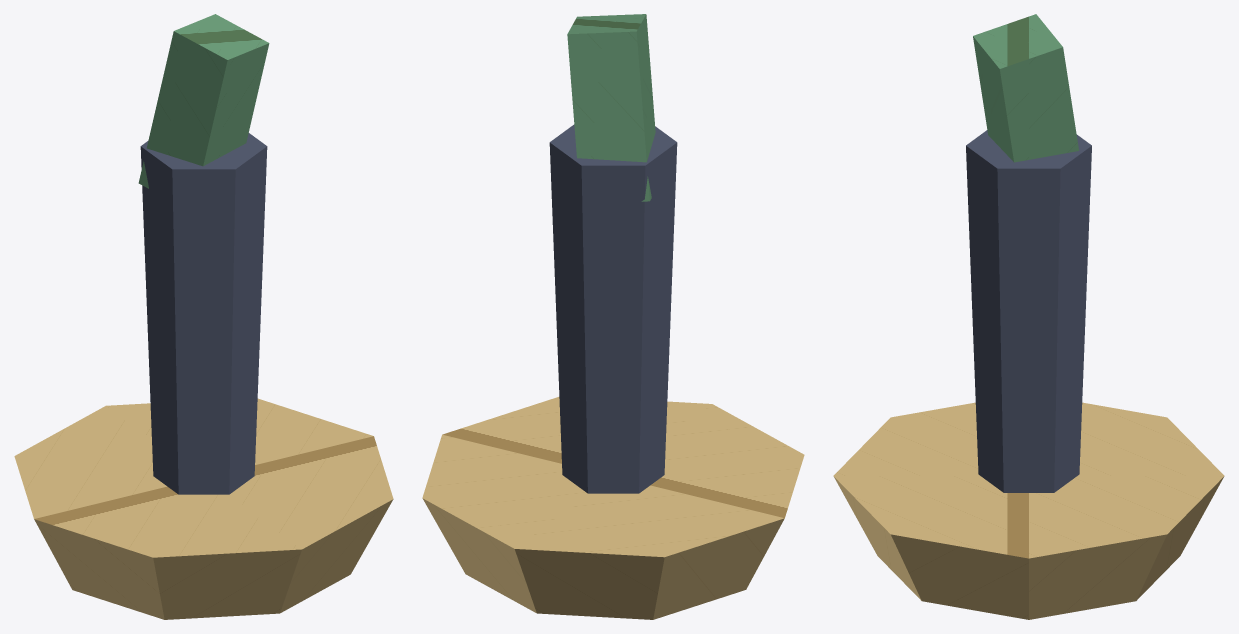
File: prp_beacon_market_a.glb
The picture shows the model from 3 angles, left to right: view 1: azimuth 30°, elevation 25°; view 2: azimuth 150°, elevation 25°; view 3: azimuth 270°, elevation 25°; orthographic projection.
Parts seen in each view (by area): view 1: lod0__beacon_clay, lod0__beacon_alloy; view 2: lod0__beacon_clay, lod0__beacon_alloy; view 3: lod0__beacon_clay, lod0__beacon_alloy.
Boxes of the visible parts, x1,y1,x2,y2 form: lod0__beacon_clay: (14,14,393,619); lod0__beacon_alloy: (140,133,267,494); lod0__beacon_clay: (422,14,804,619); lod0__beacon_alloy: (549,124,677,493); lod0__beacon_clay: (833,14,1224,619); lod0__beacon_alloy: (966,130,1091,492).
Bounding box in the file's own units: 1.24 × 1.85 × 1.24.
2 materials, 1 textured.
